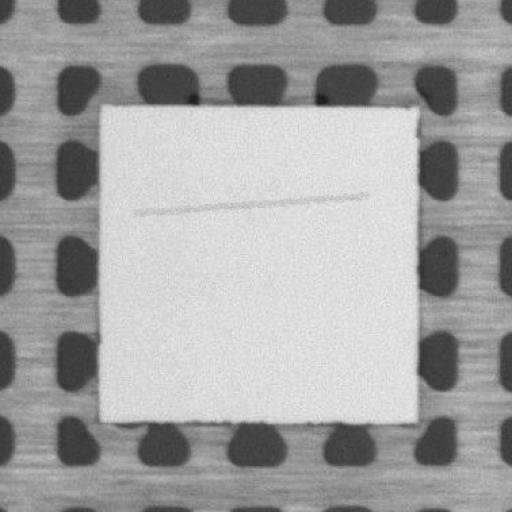DIE_CRACK: (134, 195, 367, 213)
